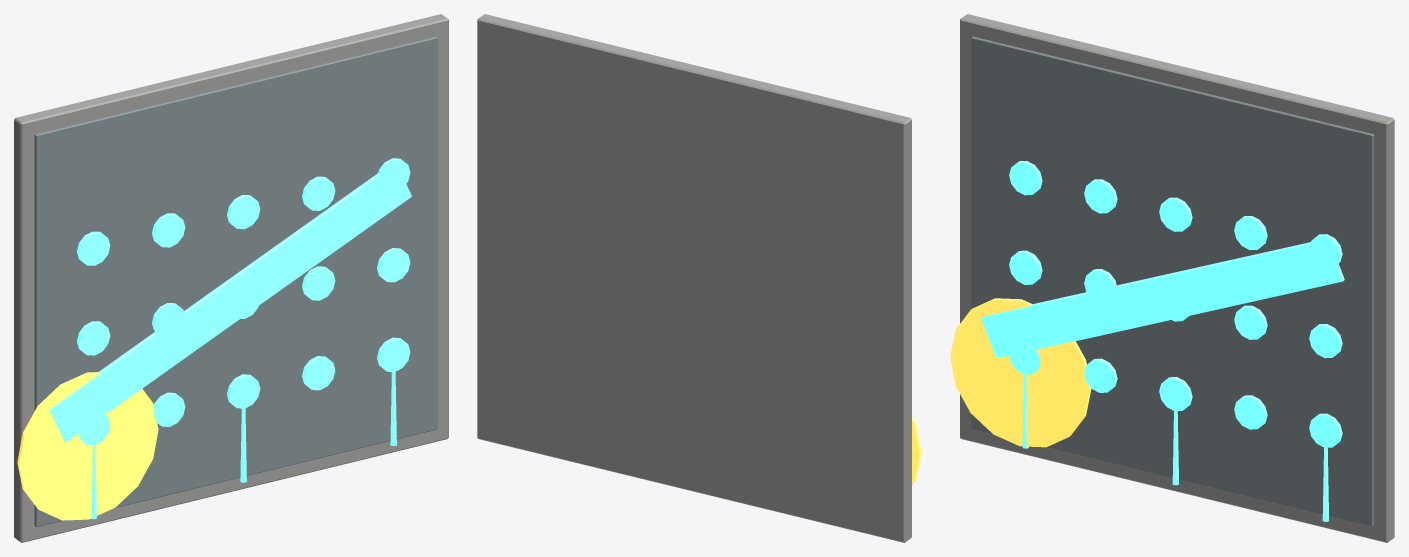
Rendered from cyberpunk-apartment-and-neon-block-graffiti-panel-arcs-cfbcf008__37799.glb.
3 views of the same model, side by side, from view 1: azimuth 30°, elevation 25°; view 2: azimuth 150°, elevation 25°; view 3: azimuth 330°, elevation 25° (orthographic).
Parts seen in each view (by area): view 1: graffiti-panel-arcs; view 2: graffiti-panel-arcs; view 3: graffiti-panel-arcs.
Part boxes in pixels (box(x1,y1,x2,y2)): graffiti-panel-arcs: box(14, 14, 448, 542); graffiti-panel-arcs: box(477, 14, 921, 542); graffiti-panel-arcs: box(950, 14, 1394, 542).
Size of the model in its own units: 1.62 by 1.5 by 0.0794.
